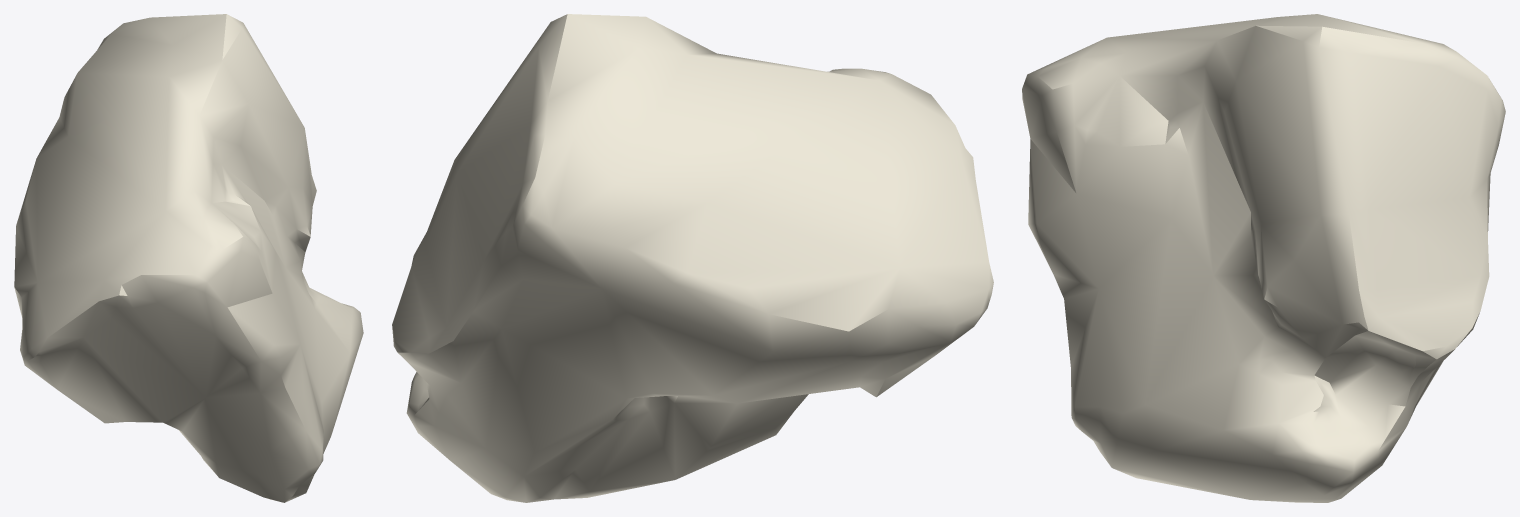
File: fma24525_fj3373.glb
3 views of the same model, side by side, from view 1: azimuth 30°, elevation 25°; view 2: azimuth 150°, elevation 25°; view 3: azimuth 270°, elevation 25° (orthographic). The views are drawn at different scales.
Parts seen in each view (by area): view 1: FMA24525_FJ3373; view 2: FMA24525_FJ3373; view 3: FMA24525_FJ3373.
Part boxes in pixels (box(x1,y1,x2,y2)): FMA24525_FJ3373: box(14, 14, 363, 502); FMA24525_FJ3373: box(392, 14, 993, 502); FMA24525_FJ3373: box(1022, 14, 1505, 502).
Bounding box in the file's own units: 0.0257 × 0.0257 × 0.0244.
